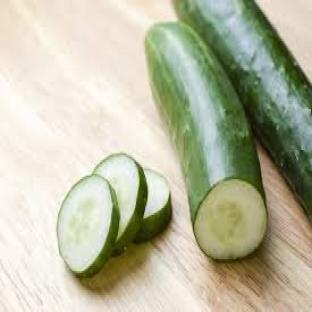Cucumber: (146, 23, 266, 259), (57, 176, 119, 277), (95, 154, 147, 254), (136, 169, 172, 243)
